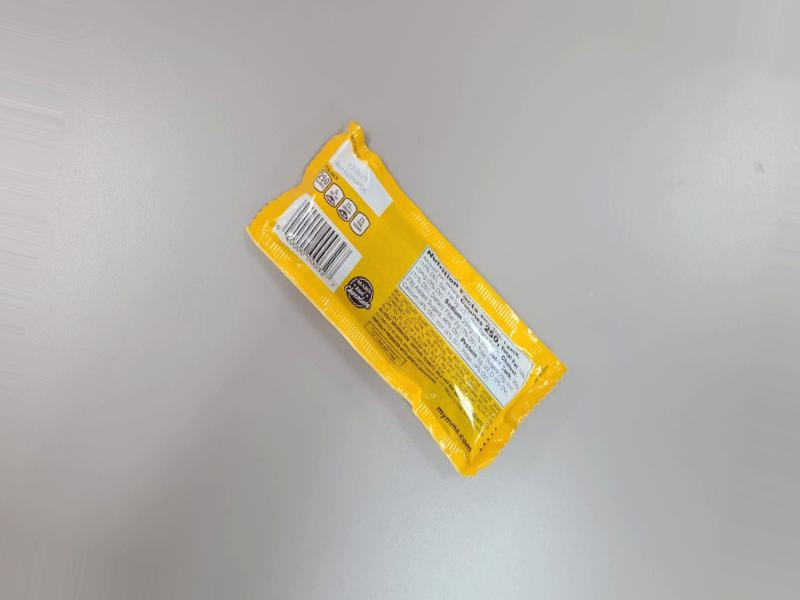m&m: (254, 114, 546, 473)
